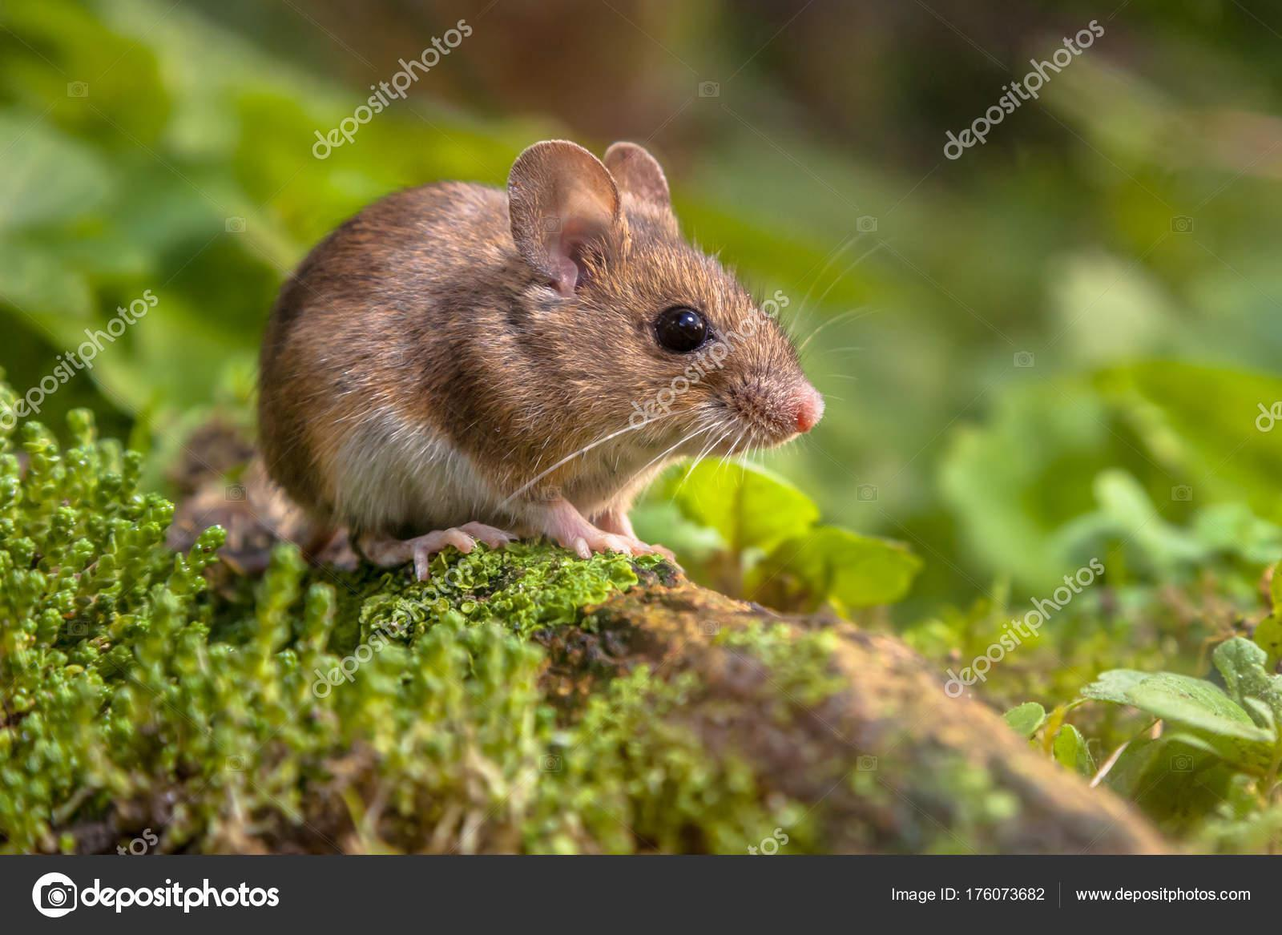rat: (258, 141, 827, 580)
